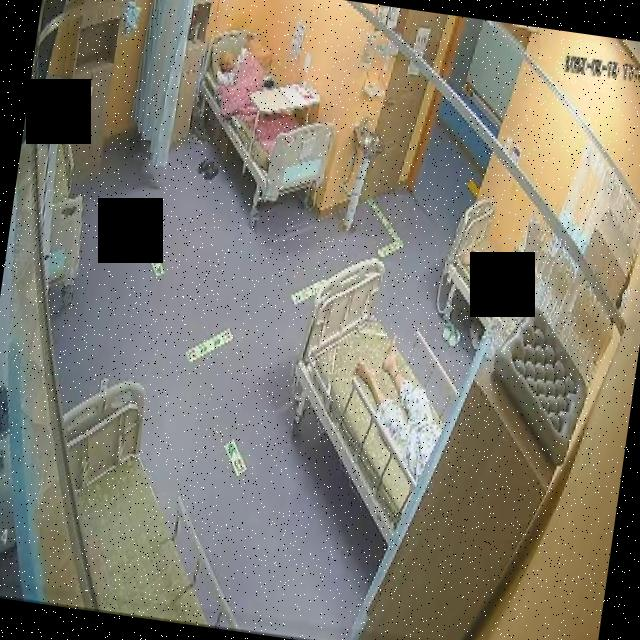bed: (37, 368, 272, 632), (276, 252, 466, 544), (186, 28, 344, 208), (438, 195, 520, 331)
lie: (343, 328, 457, 484), (206, 36, 300, 132)
patient: (344, 329, 456, 484), (212, 38, 254, 94)
